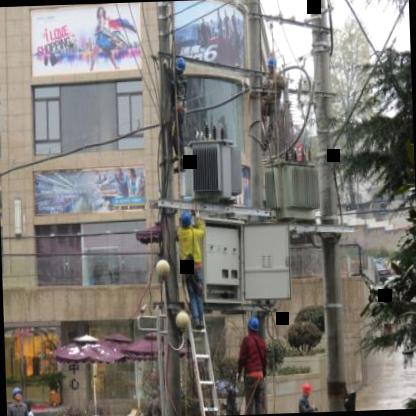helmet: (179, 210, 196, 234), (244, 313, 260, 338), (262, 53, 278, 78), (174, 51, 188, 78), (298, 380, 314, 401), (12, 384, 24, 405)
